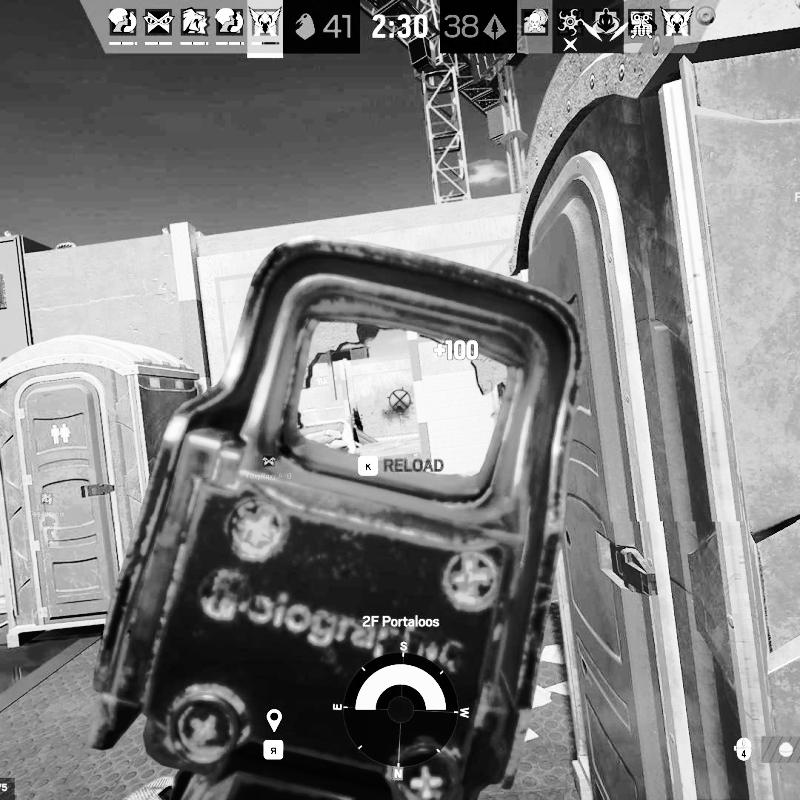Friend_label: (245, 453, 295, 480), (28, 491, 66, 518)
